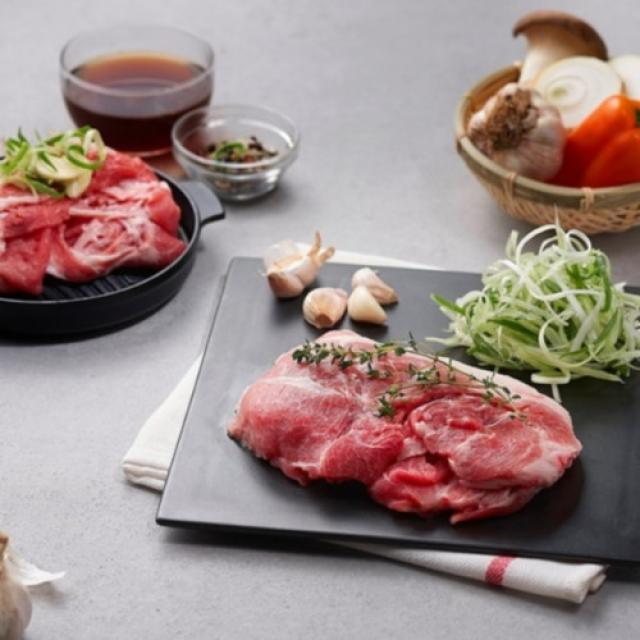pork: (212, 302, 599, 544), (0, 137, 215, 276)
